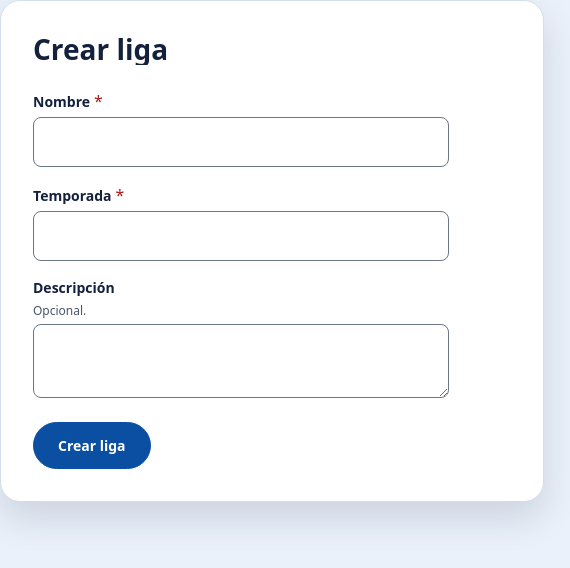
Test case: CreateLeagueForm › muestra el error.message del envelope al recibir 409
The width and height of the screenshot is (570, 568).
Type "Interfacultades" into the field labelled "Nombre" at (241, 142), box [33,117,449,167]
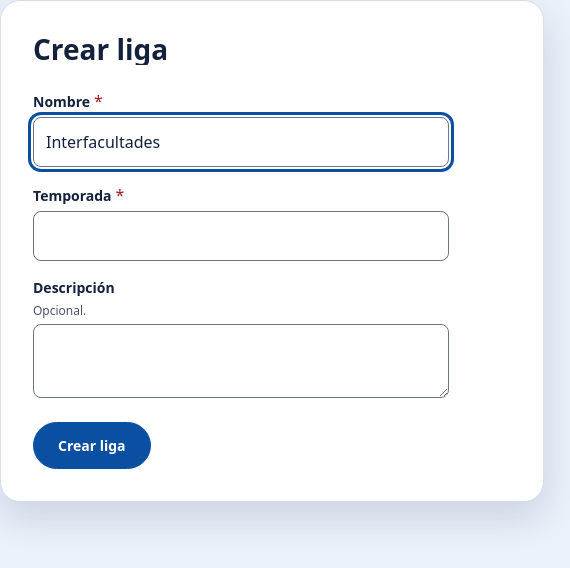
Type "2026-1" into the field labelled "Temporada" at (241, 236), box [33,211,449,261]
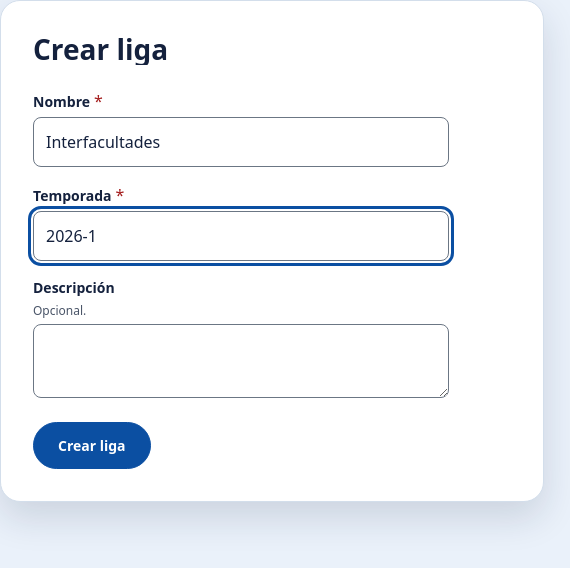
Click the button "Crear liga" at (92, 446), box [33,422,151,469]
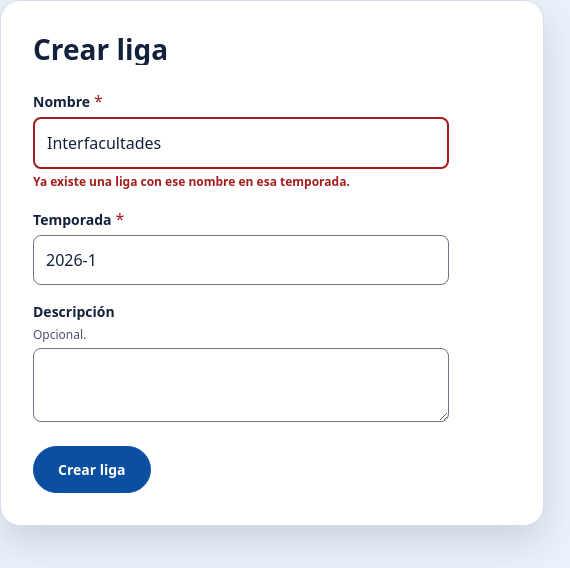
Result: the message reads "Ya existe una liga con ese nombre en esa temporada." at [33,173,350,190]
